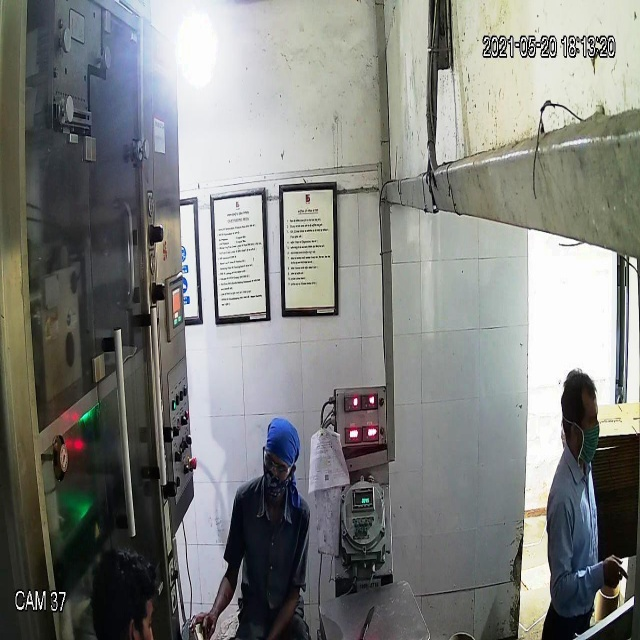Gafas: (260, 445, 294, 484)
Sin_gafas: (559, 402, 602, 438)
